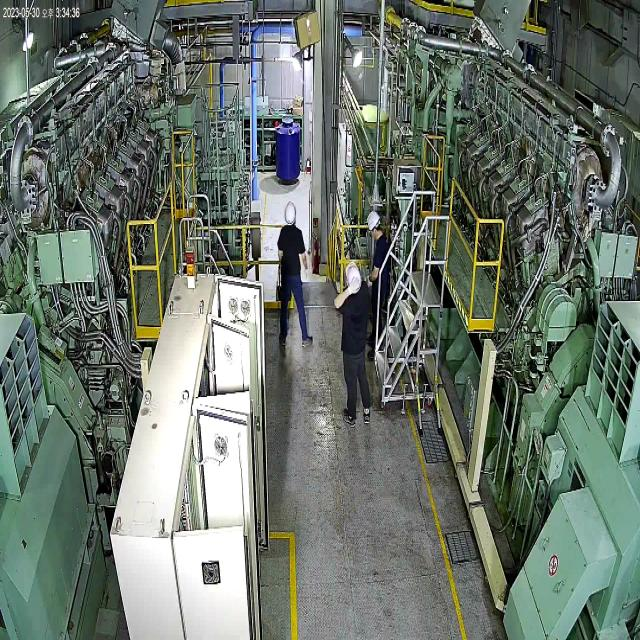Water Tank: (271, 110, 305, 188)
worker: (331, 258, 375, 434), (272, 195, 316, 358), (364, 206, 398, 358)
